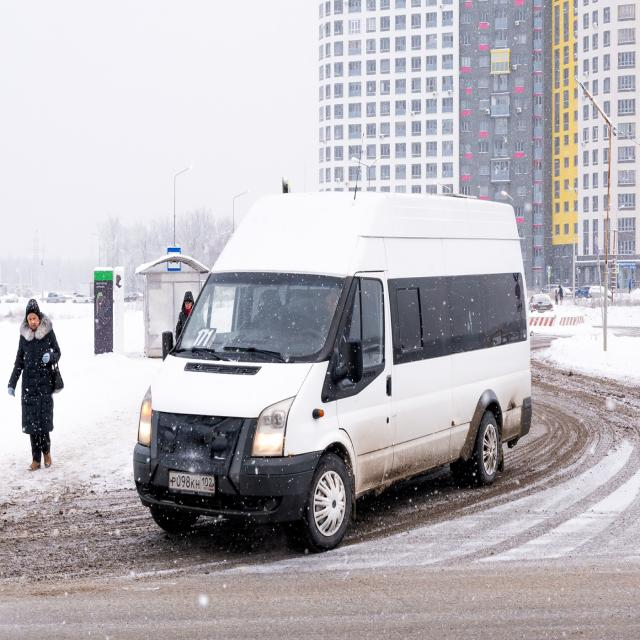number-of-bus: (194, 328, 215, 348)
